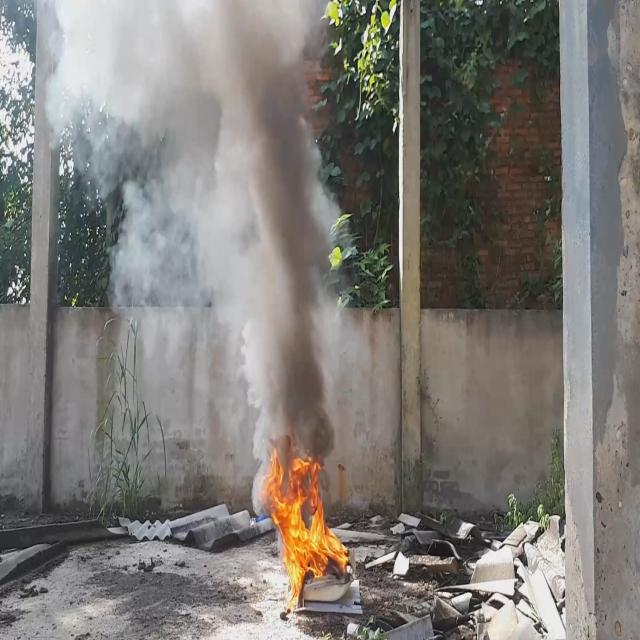Fire: (260, 442, 351, 614)
Smoke: (42, 0, 346, 506)
